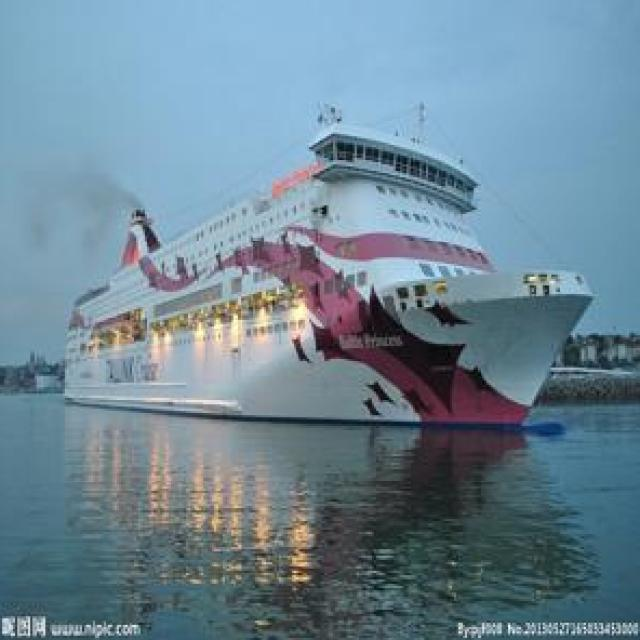passenger ship: (63, 118, 597, 439)
